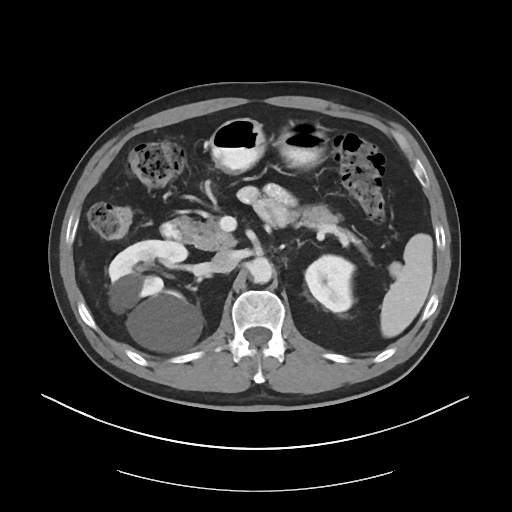Lesion: (125, 290, 206, 357)
